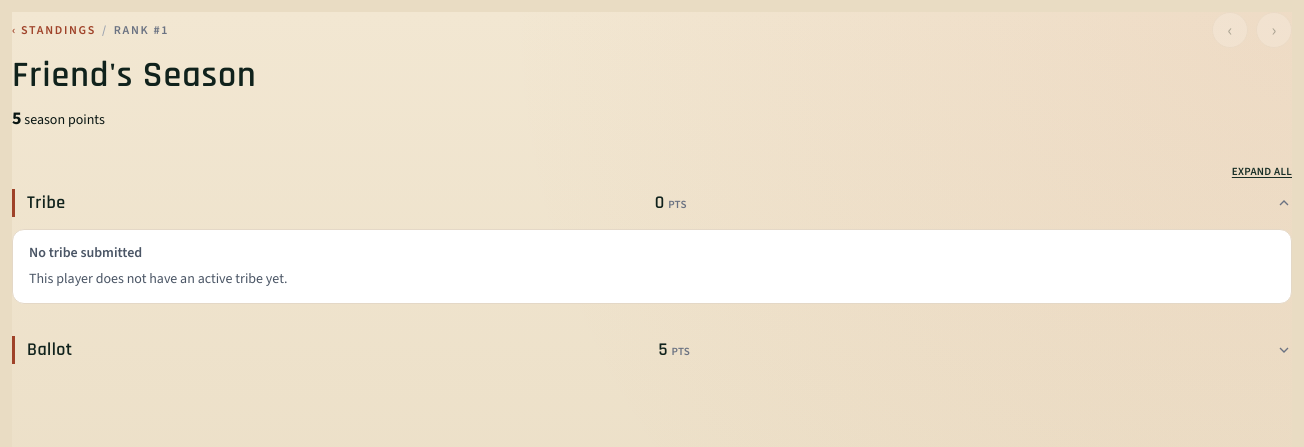
TeamPage › starts with only Tribe open; Expand all reveals the ballot (#646)
expect the text "Ep 1" is not shown: met
Click the button "Expand all" at x=1262, y=172, box [1232, 164, 1292, 180]
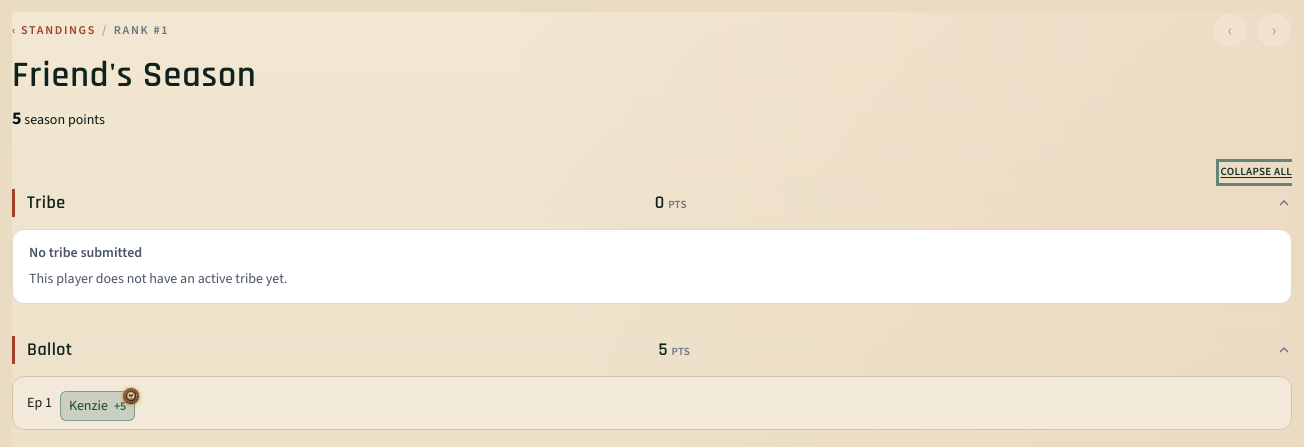
expect the text "Ep 1" is shown: met, box [27, 393, 52, 413]
expect the picture named "Power Vote" is shown: met, box [122, 386, 140, 405]
expect the element named "Power Vote" shows "Kenzie": met, box [69, 396, 108, 415]
